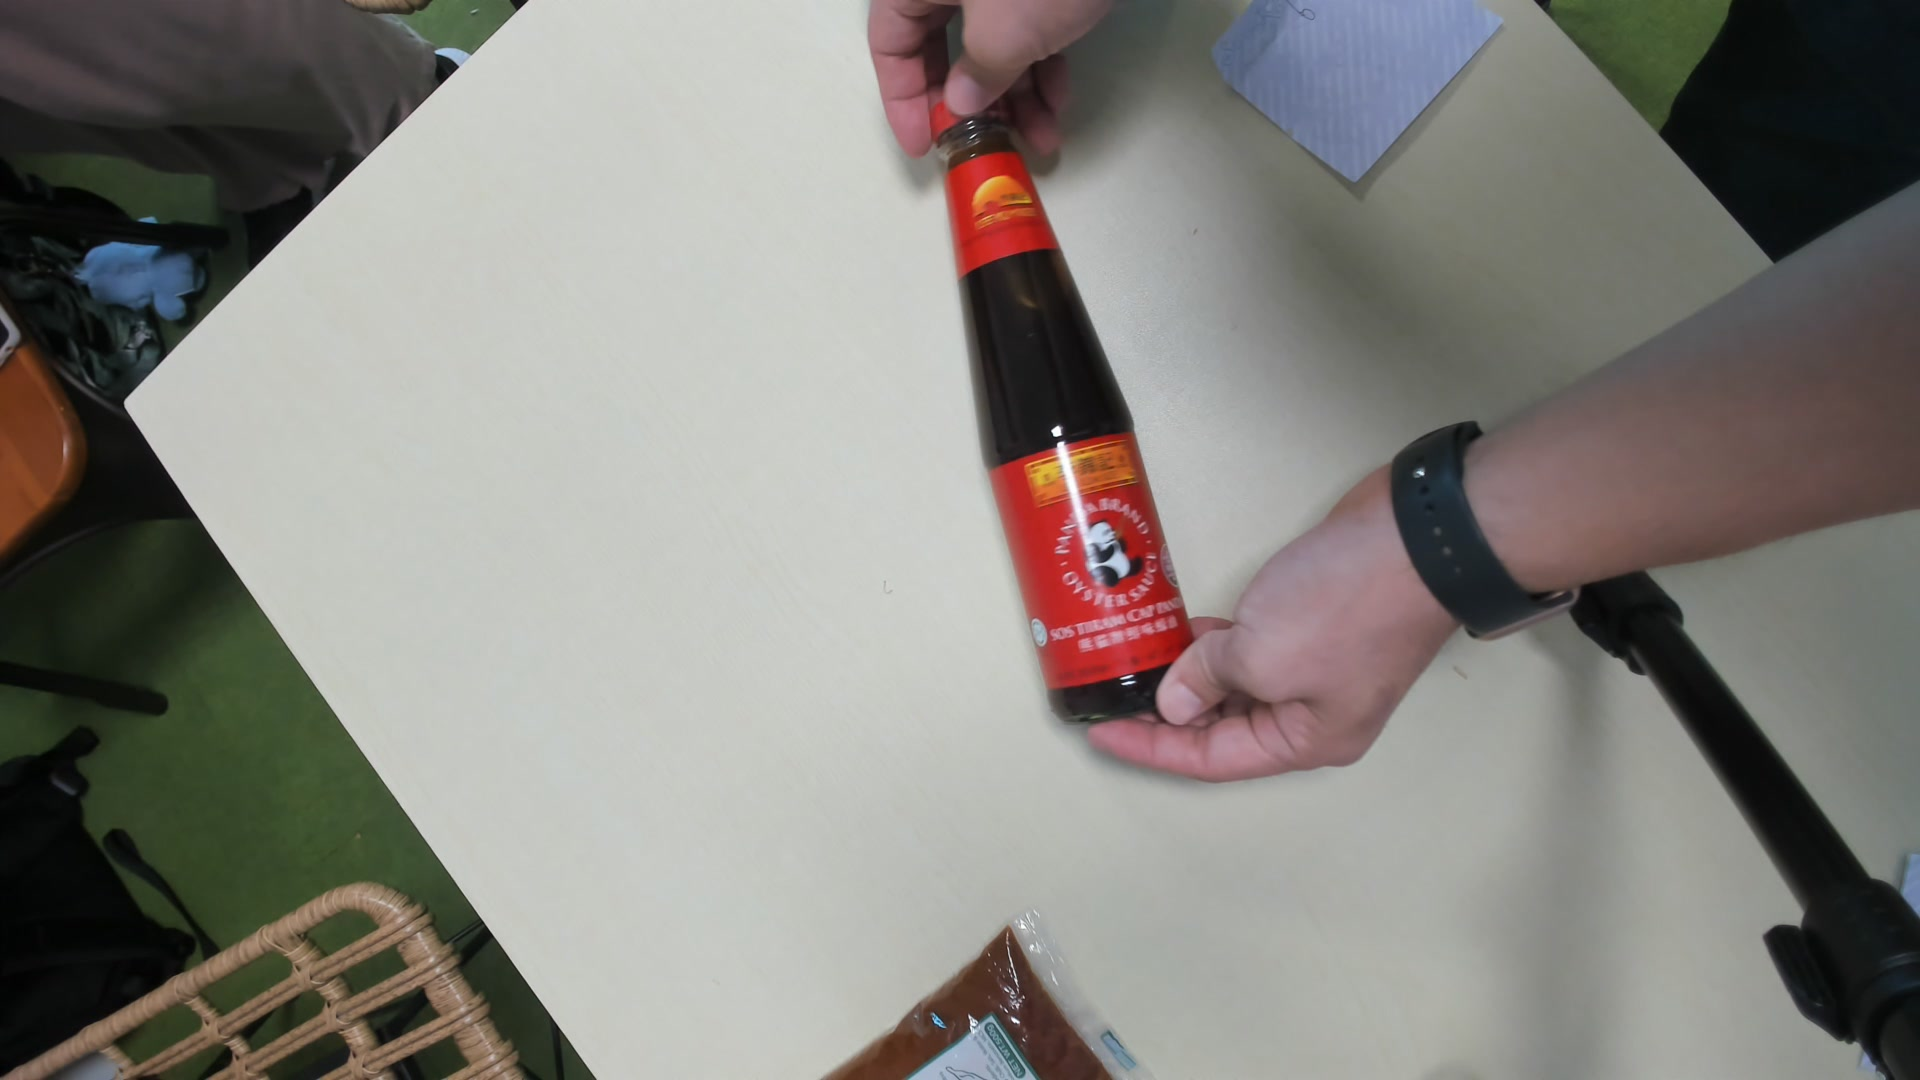OtherSauceDressingSoupbasePaste_500-599g_Halal_NonHealthy: (930, 92, 1201, 725)
